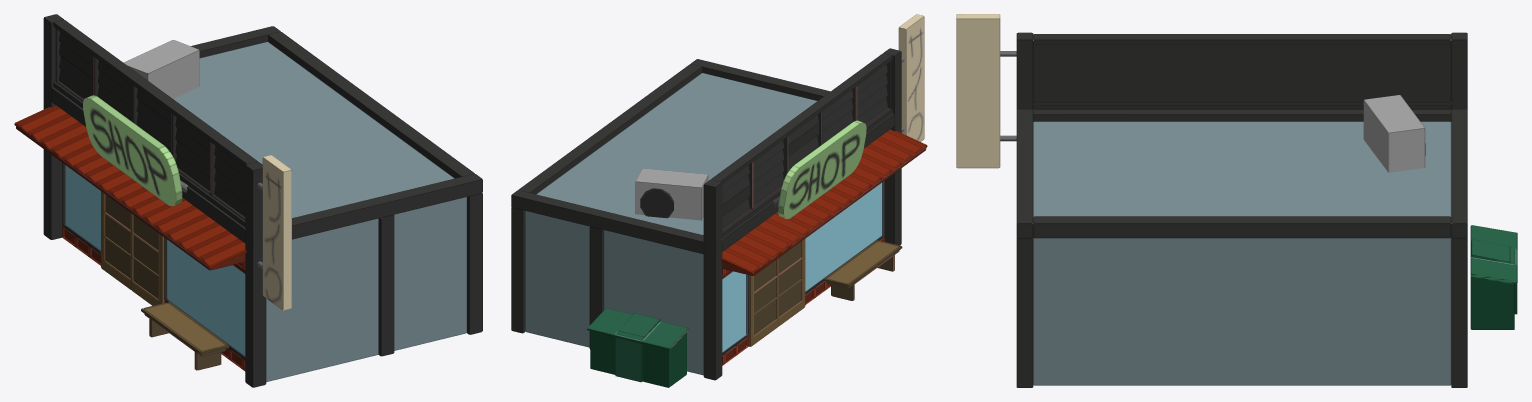
The model's file is shop.fbx.
3 renders of one model, left to right at view 1: azimuth 30°, elevation 25°; view 2: azimuth 150°, elevation 25°; view 3: azimuth 270°, elevation 25°, orthographic. The views are drawn at different scales.
Parts seen in each view (by area): view 1: cuboid_19, cuboid_13, verhushka, cuboid_15, kozirek, cuboid_6, viveska, cuboid_8, svaiya_2, svaiya_1, svaiya_5, cuboid_11 (+10 smaller); view 2: cuboid_19, verhushka, cuboid_12, cuboid_14, kozirek, cuboid_9, cuboid_6, viveska, svaiya, svaiya_3, svaiya_5, cuboid_8 (+11 smaller); view 3: cuboid_16, cuboid_19, verhushka, svaiya_5, cuboid_8, cuboid_9, svaiya_4, cuboid_11, svaiya_6, svaiya_7, svaiya_2, svaiya_3 (+2 smaller).
Part boxes in pixels (x1=…): cuboid_19: x1=173, y1=42, x2=454, y2=217; cuboid_13: x1=266, y1=218, x2=378, y2=381; verhushka: x1=53, y1=20, x2=257, y2=226; cuboid_15: x1=394, y1=197, x2=466, y2=350; kozirek: x1=14, y1=105, x2=246, y2=270; cuboid_6: x1=164, y1=237, x2=245, y2=359; viveska: x1=83, y1=95, x2=182, y2=206; cuboid_8: x1=262, y1=155, x2=291, y2=310; svaiya_2: x1=245, y1=173, x2=482, y2=248; svaiya_1: x1=245, y1=162, x2=266, y2=387; svaiya_5: x1=268, y1=31, x2=474, y2=178; cuboid_11: x1=123, y1=40, x2=199, y2=98; cuboid_19: x1=536, y1=73, x2=817, y2=234; verhushka: x1=711, y1=53, x2=892, y2=237; cuboid_12: x1=604, y1=230, x2=703, y2=375; cuboid_14: x1=525, y1=211, x2=589, y2=347; kozirek: x1=721, y1=129, x2=927, y2=275; cuboid_9: x1=587, y1=308, x2=688, y2=387; cuboid_6: x1=801, y1=180, x2=884, y2=294; viveska: x1=778, y1=120, x2=866, y2=219; svaiya: x1=703, y1=179, x2=722, y2=380; svaiya_3: x1=511, y1=190, x2=722, y2=256; svaiya_5: x1=518, y1=64, x2=702, y2=194; cuboid_8: x1=898, y1=14, x2=924, y2=141; cuboid_16: x1=1033, y1=238, x2=1451, y2=385; cuboid_19: x1=1033, y1=121, x2=1451, y2=216; verhushka: x1=1033, y1=34, x2=1451, y2=109; svaiya_5: x1=1033, y1=216, x2=1451, y2=238; cuboid_8: x1=956, y1=14, x2=1000, y2=168; cuboid_9: x1=1470, y1=225, x2=1517, y2=329; svaiya_4: x1=1033, y1=103, x2=1451, y2=121; cuboid_11: x1=1363, y1=95, x2=1425, y2=172; svaiya_6: x1=1016, y1=238, x2=1033, y2=387; svaiya_7: x1=1451, y1=238, x2=1467, y2=387; svaiya_2: x1=1016, y1=109, x2=1033, y2=238; svaiya_3: x1=1451, y1=109, x2=1467, y2=238.
Size of the model in its own units: 751 by 638 by 1276.
Materials: 1 (1 with a texture image).
